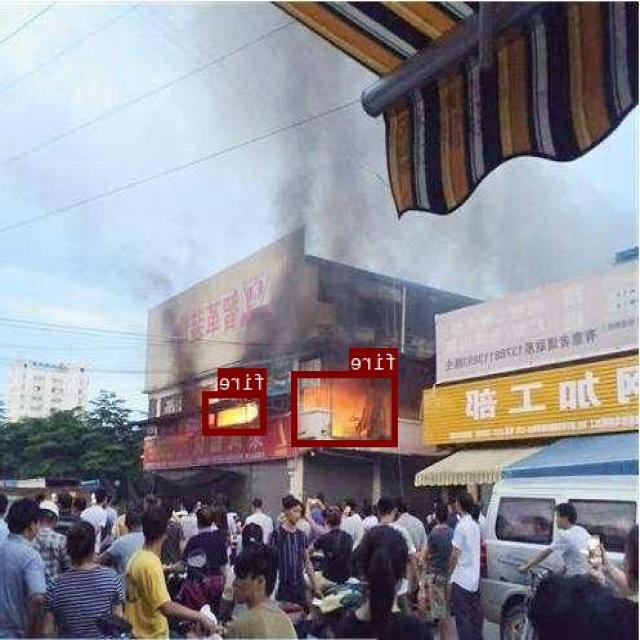fire: (293, 370, 399, 446), (204, 390, 267, 433)
